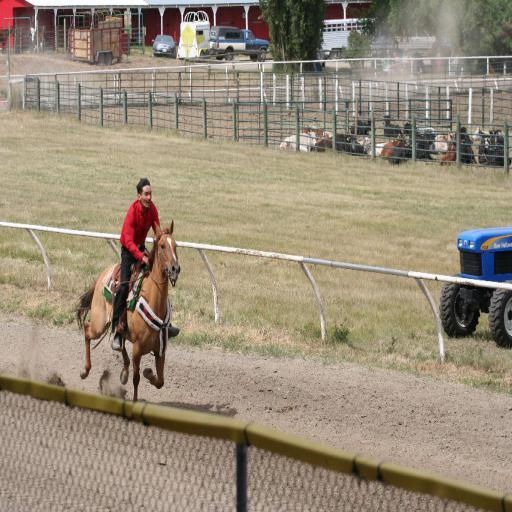horse: (74, 220, 182, 390)
